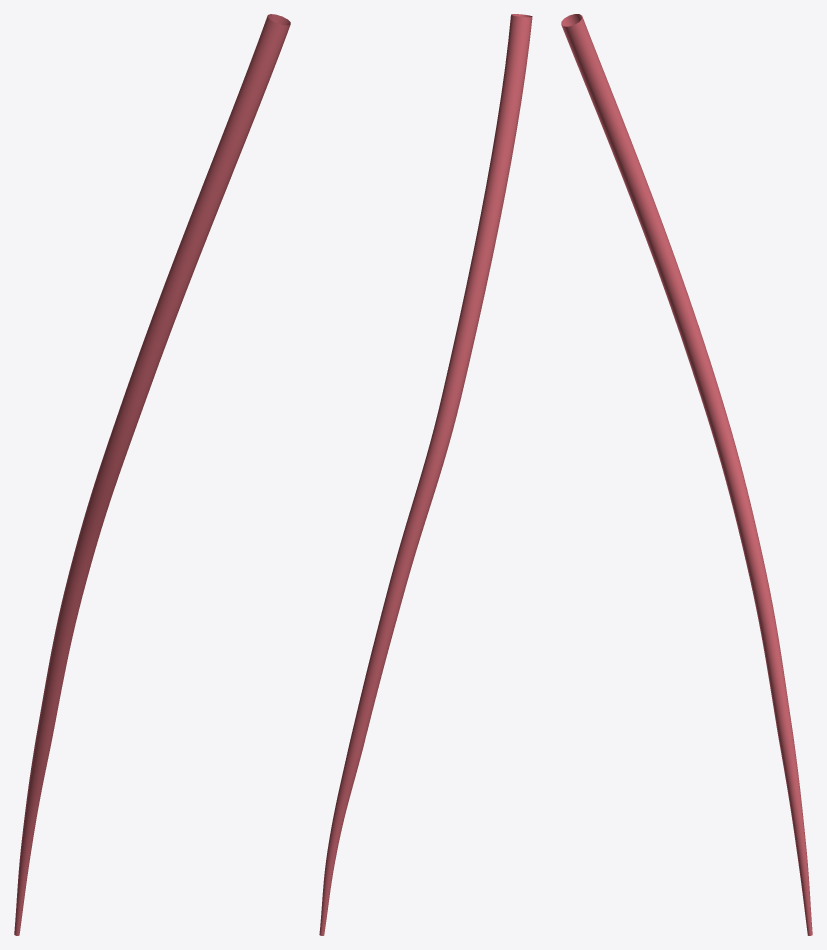
3 views of the same model, side by side, from view 1: azimuth 90°, elevation 25°; view 2: azimuth 150°, elevation 25°; view 3: azimuth 270°, elevation 25° (orthographic). The views are drawn at different scales.
Parts seen in each view (by area): view 1: ZA_73b46da576ab0ebc; view 2: ZA_73b46da576ab0ebc; view 3: ZA_73b46da576ab0ebc.
Part boxes in pixels (box(x1,y1,x2,y2)): ZA_73b46da576ab0ebc: box(14, 14, 290, 935); ZA_73b46da576ab0ebc: box(319, 14, 532, 935); ZA_73b46da576ab0ebc: box(561, 14, 812, 935).
Bounding box in the file's own units: 0.00915 × 0.0763 × 0.0198.
